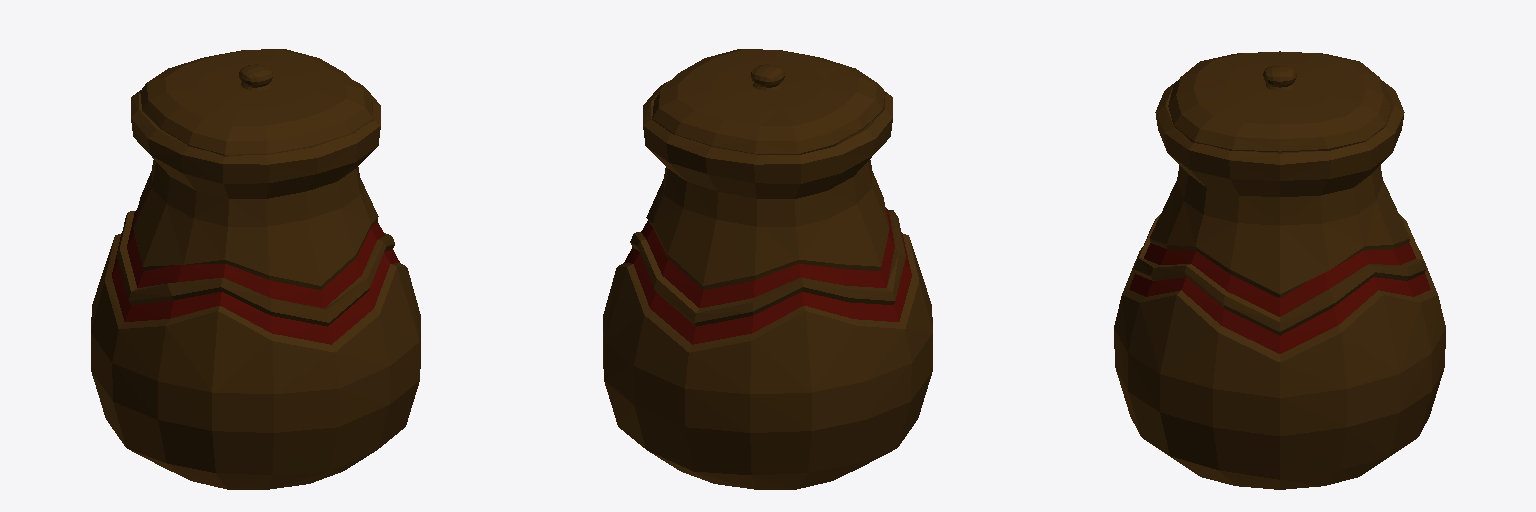
Rendered from Pot1.obj.
The picture shows the model from 3 angles: view 1: azimuth 30°, elevation 25°; view 2: azimuth 150°, elevation 25°; view 3: azimuth 270°, elevation 25°; orthographic projection.
Parts seen in each view (by area): view 1: Pot1; view 2: Pot1; view 3: Pot1.
Boxes of the visible parts, <box> form: Pot1: <box>91,49,420,489</box>; Pot1: <box>603,49,932,489</box>; Pot1: <box>1114,51,1445,489</box>.
Size of the model in its own units: 0.7684 by 0.9617 by 0.7683.